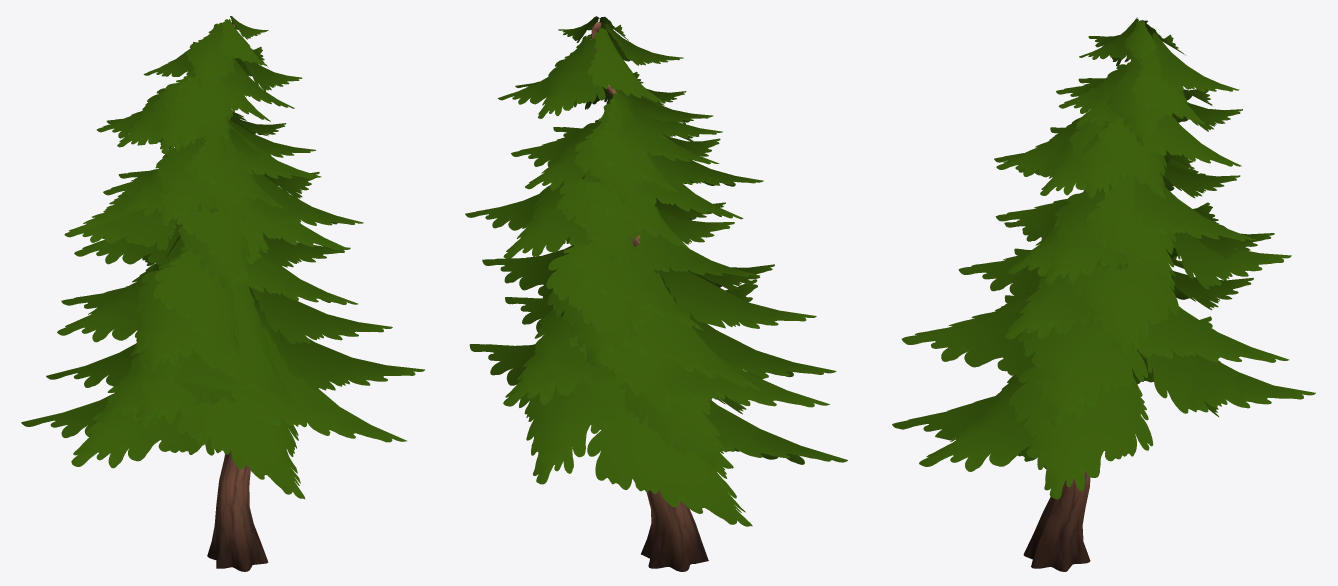
File: pine_5.glb
The picture shows the model from 3 angles, left to right: view 1: azimuth 30°, elevation 25°; view 2: azimuth 150°, elevation 25°; view 3: azimuth 270°, elevation 25°; orthographic projection. The views are drawn at different scales.
Parts seen in each view (by area): view 1: Pine_5; view 2: Pine_5; view 3: Pine_5.
Boxes of the visible parts, bbox=[...] form: Pine_5: bbox=[21, 16, 424, 571]; Pine_5: bbox=[465, 16, 847, 571]; Pine_5: bbox=[892, 17, 1315, 571].
Bounding box in the file's own units: 6.42 × 8.72 × 6.22.
Materials: 2 (2 with a texture image).
